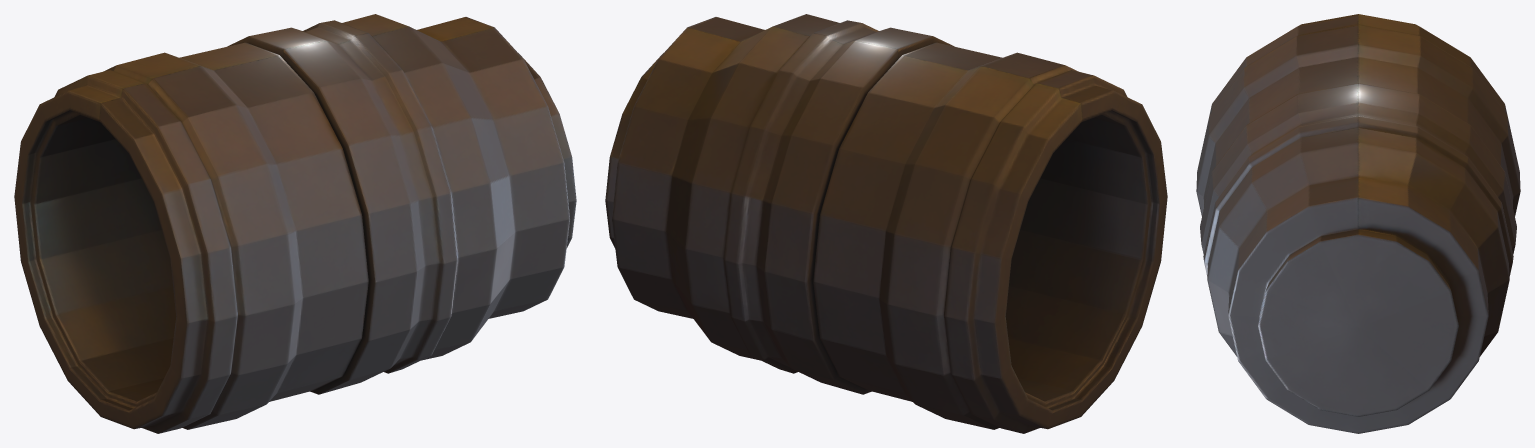
File: baked.glb
The picture shows the model from 3 angles, left to right: view 1: azimuth 30°, elevation 25°; view 2: azimuth 150°, elevation 25°; view 3: azimuth 270°, elevation 25°; orthographic projection. The views are drawn at different scales.
Parts seen in each view (by area): view 1: Cube; view 2: Cube; view 3: Cube.
Part boxes in pixels (x1,y1,x2,y2): Cube: (14, 14, 576, 433); Cube: (605, 14, 1167, 433); Cube: (1196, 14, 1520, 433).
Size of the model in its own units: 2.2 by 1.69 by 1.69.
1 material, 1 textured.
